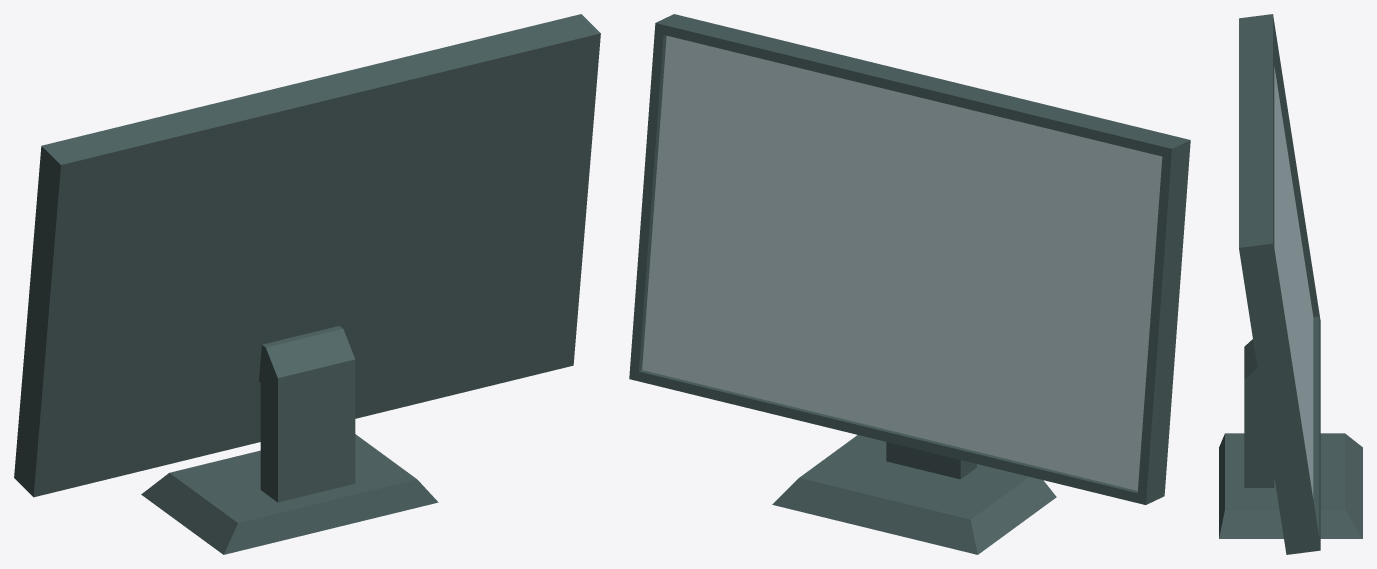
Rendered from computerScreen.dae.
3 views of the same model, side by side, from view 1: azimuth 30°, elevation 25°; view 2: azimuth 150°, elevation 25°; view 3: azimuth 270°, elevation 25° (orthographic). The views are drawn at different scales.
Parts seen in each view (by area): view 1: computerScreen; view 2: computerScreen; view 3: computerScreen.
Part boxes in pixels (x1,y1,x2,y2): computerScreen: (14, 14, 600, 554); computerScreen: (629, 14, 1190, 554); computerScreen: (1219, 14, 1362, 554).
Size of the model in its own units: 0.3927 by 0.2943 by 0.104.
